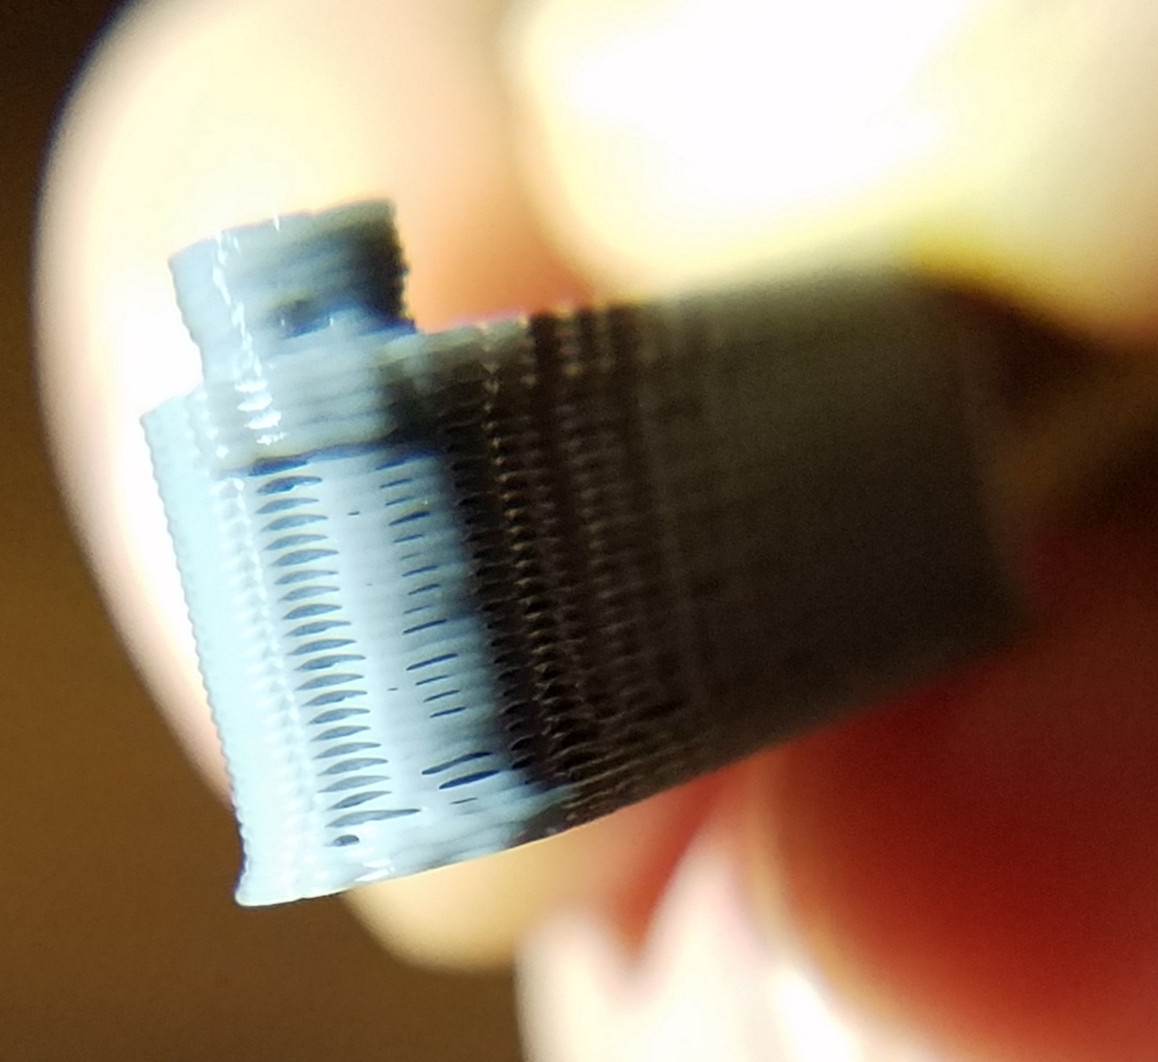under_extrusion: (206, 441, 477, 855)
